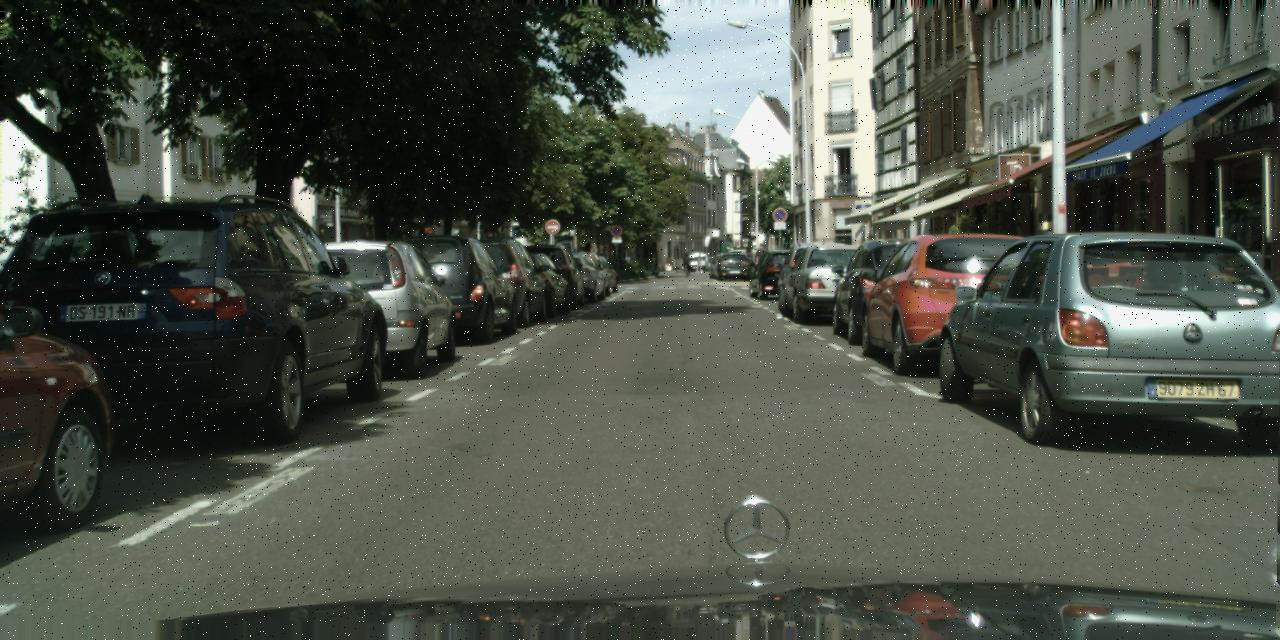ped: (754, 242, 770, 282), (681, 253, 690, 275)
